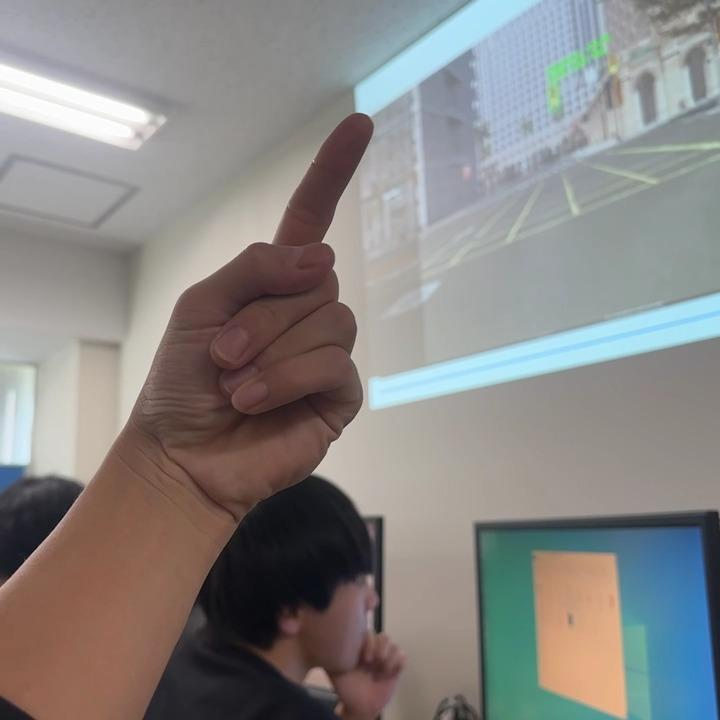without_gloves: (49, 46, 503, 539)
